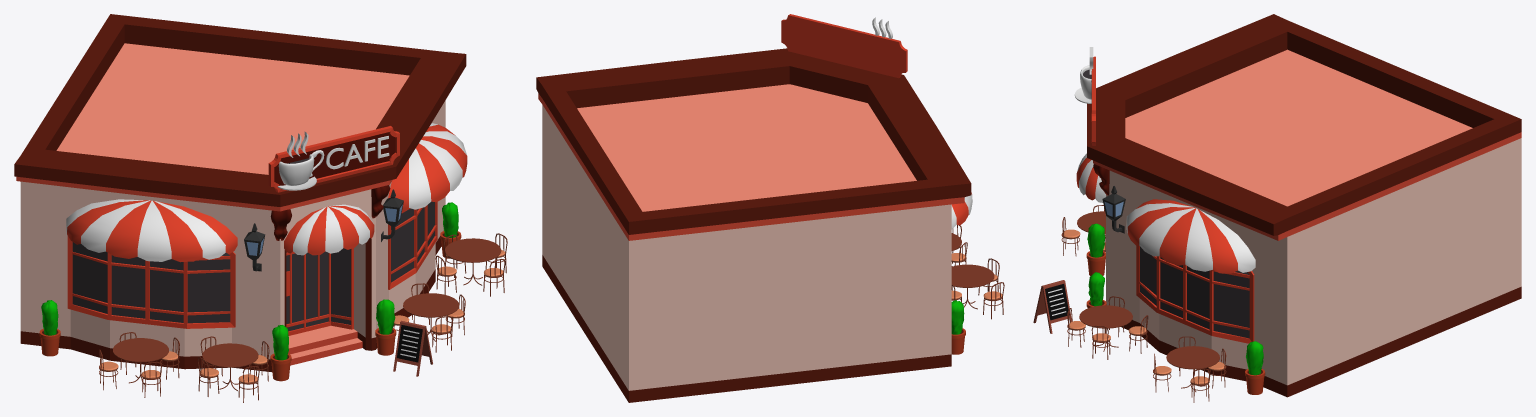
Rendered from low_poly_cafe.glb.
The picture shows the model from 3 angles, left to right: view 1: azimuth 30°, elevation 25°; view 2: azimuth 150°, elevation 25°; view 3: azimuth 270°, elevation 25°; orthographic projection. The views are drawn at different scales.
Visible parts, largest first — view 1: CafeBuilding, CafeTables, CafeCafe, CafePlants, CafeBoard; view 2: CafeBuilding, CafeCafe, CafeTables, CafePlants; view 3: CafeBuilding, CafeTables, CafePlants, CafeBoard, CafeCafe.
Boxes of the visible parts, <box> form: CafeBuilding: <box>14,14,467,371</box>; CafeTables: <box>99,233,507,402</box>; CafeCafe: <box>268,126,399,192</box>; CafePlants: <box>39,202,461,381</box>; CafeBoard: <box>393,320,432,376</box>; CafeBuilding: <box>536,48,972,402</box>; CafeCafe: <box>781,14,907,78</box>; CafeTables: <box>951,225,1004,319</box>; CafePlants: <box>951,300,965,354</box>; CafeBuilding: <box>1076,14,1521,397</box>; CafeTables: <box>1061,205,1226,402</box>; CafePlants: <box>1086,223,1265,394</box>; CafeBoard: <box>1033,280,1071,333</box>; CafeCafe: <box>1074,47,1095,145</box>.
Size of what is drawn, in the model's own units: 6.01 by 3.08 by 5.9.
1 material, 1 textured.
